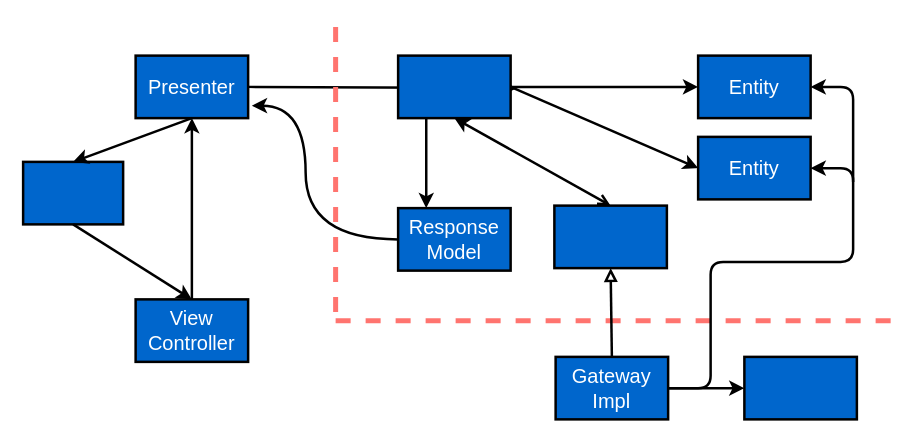
The diagram is 923 pixels wide and 441 high, and some of its shapes have lost their labels. Each missing label, with the centre of its shape:
API: point 800,387
Gateway <I>: point 610,236
Interactor: point 453,86
View Model: point 72,192
